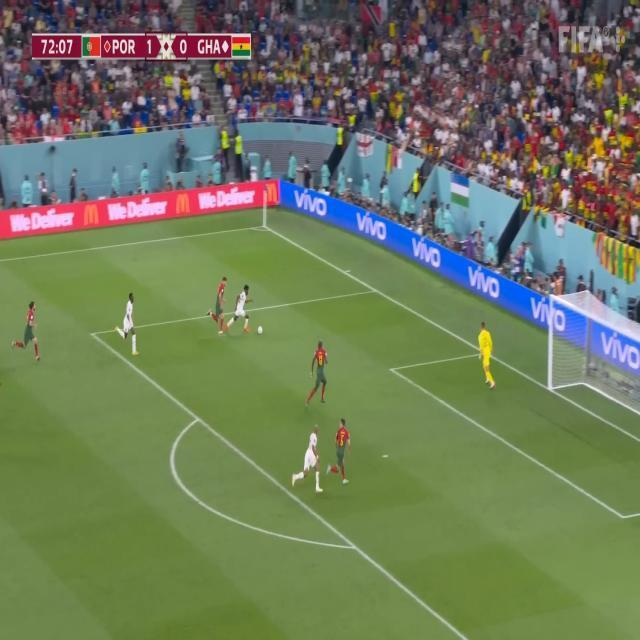football: (250, 318, 265, 341)
